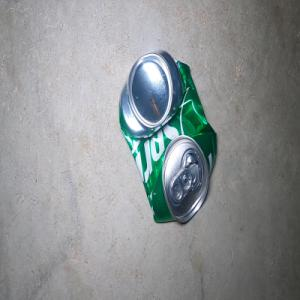SodaCan: (118, 48, 217, 223)
